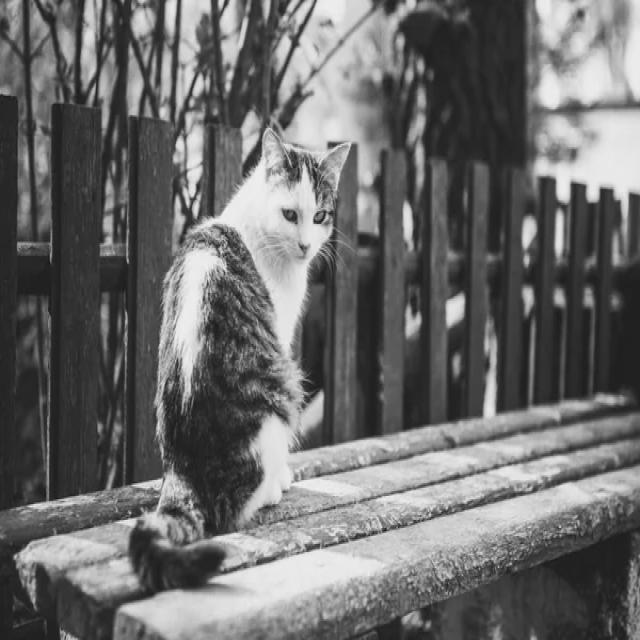Animal: (126, 127, 344, 562)
